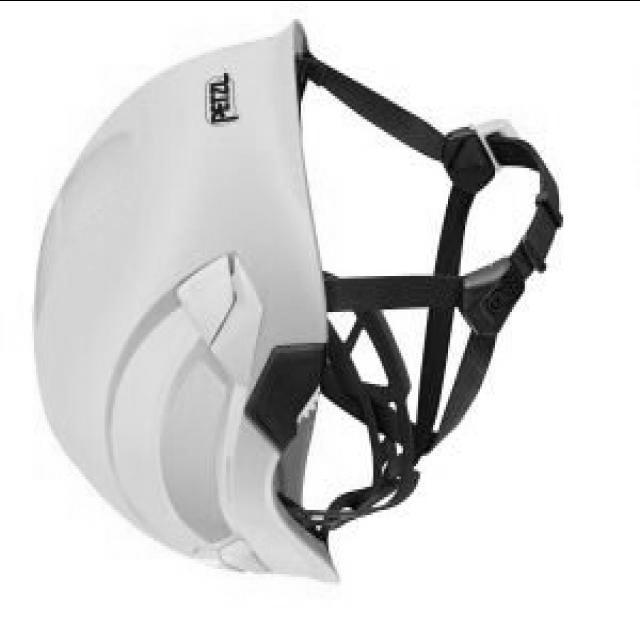construction helmet: (34, 21, 407, 583)
